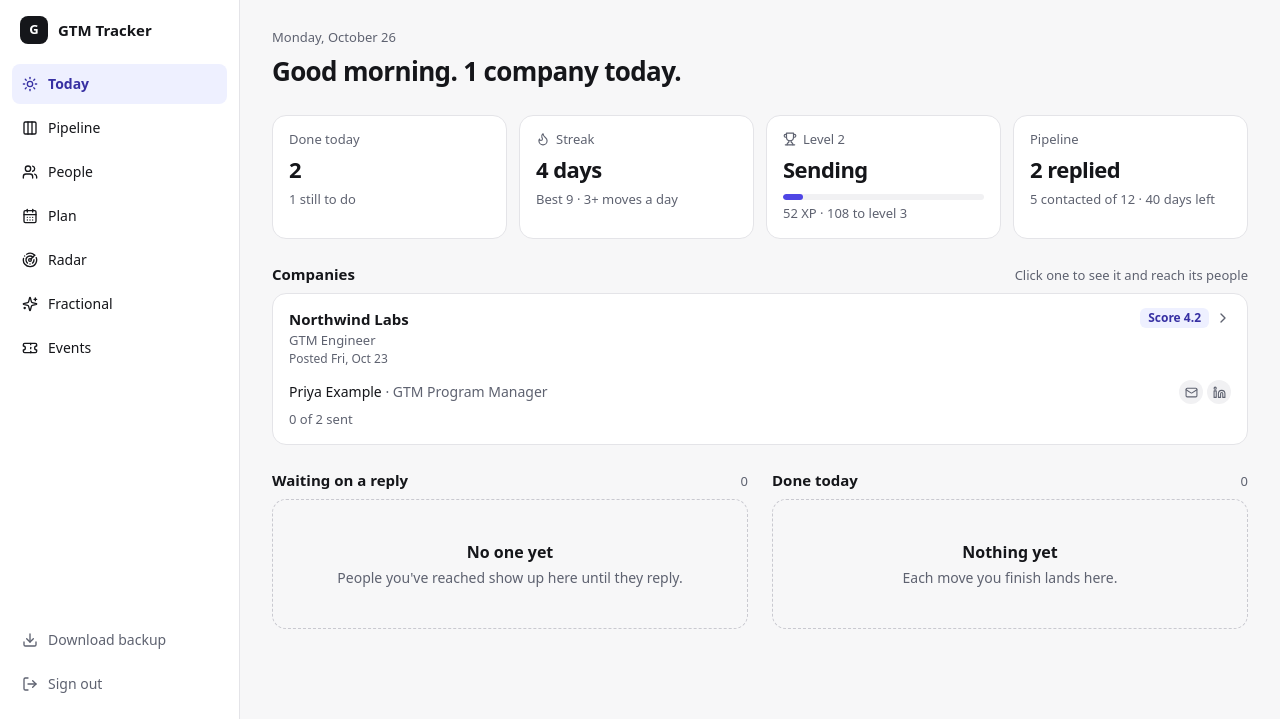
Test: Today › keeps a LinkedIn link for someone whose outreach is finished
Click the button "Northwind Labs": [349, 319] box top-left (273, 294), bottom-right (1247, 444)
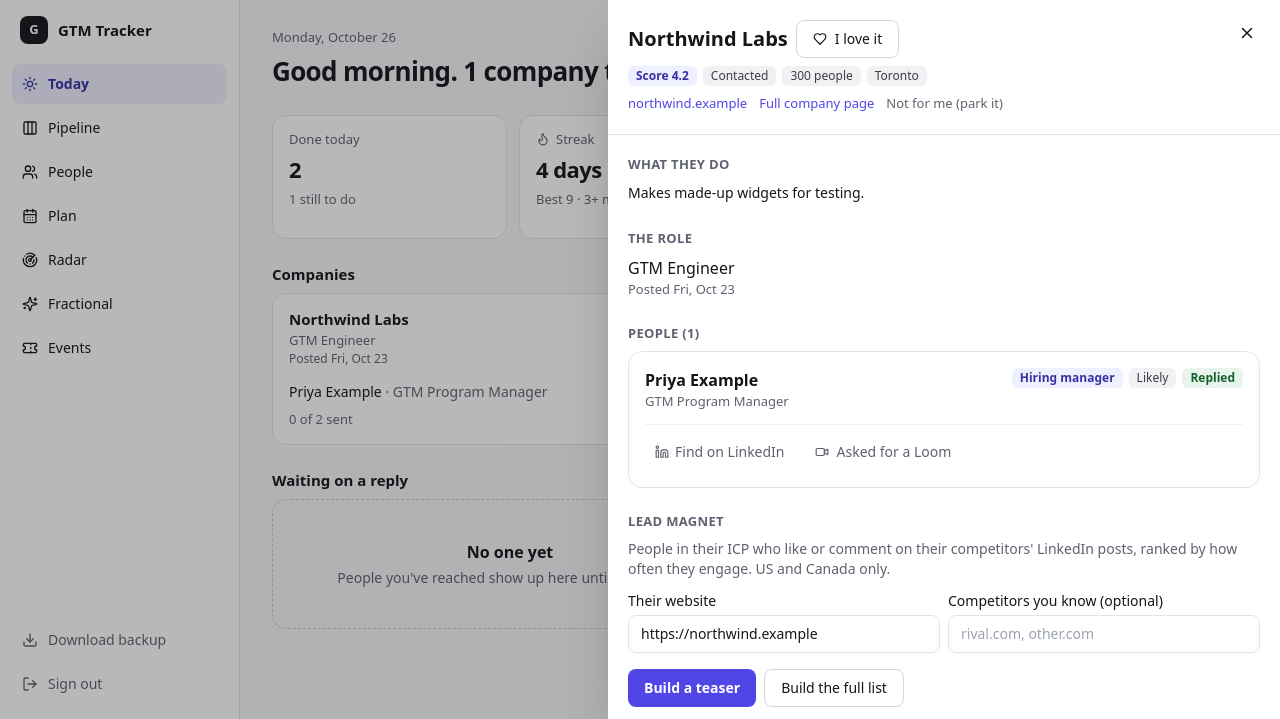
Now the link with aria-label "Find Priya Example on LinkedIn" is shown, box top-left (655, 442), bottom-right (784, 461)
